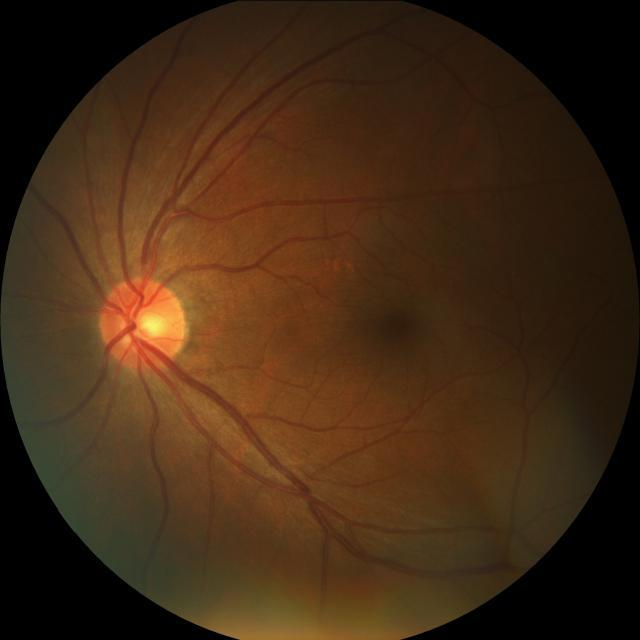OC: (139, 311, 168, 339)
OD: (100, 274, 188, 370)
